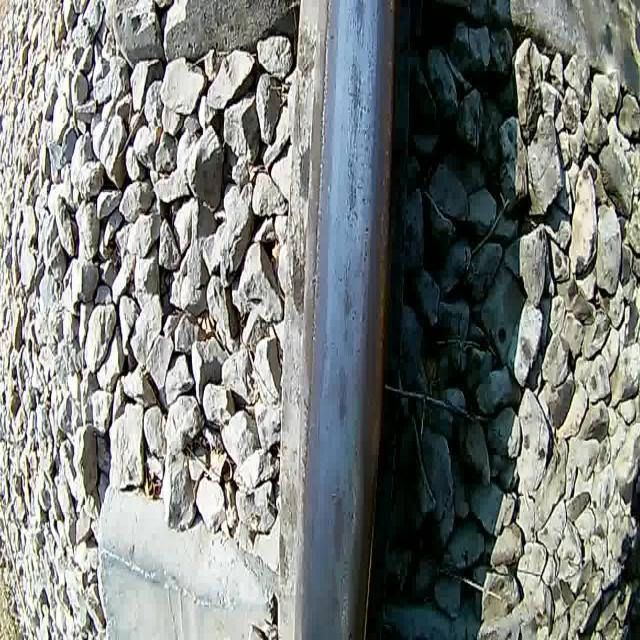Cracks: (344, 156, 358, 223)
Squats: (334, 247, 362, 351), (324, 476, 354, 573), (344, 47, 371, 144), (343, 145, 367, 235), (321, 566, 350, 640), (332, 353, 356, 440), (343, 0, 371, 49)
